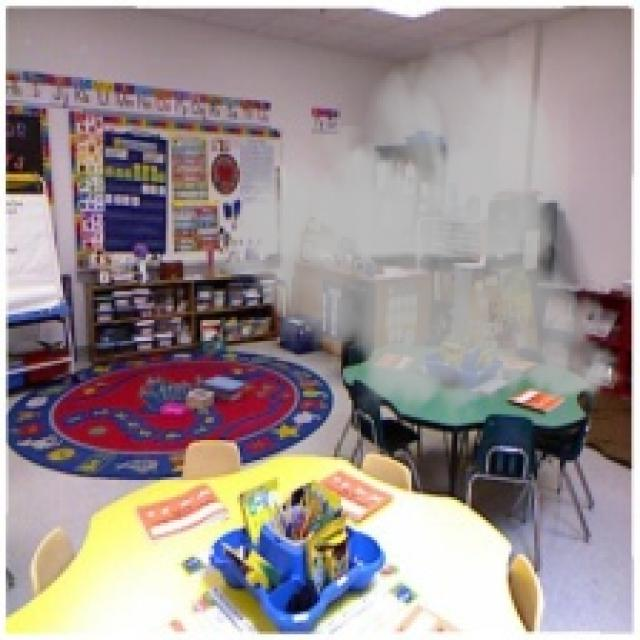smoke: (209, 37, 634, 426)
